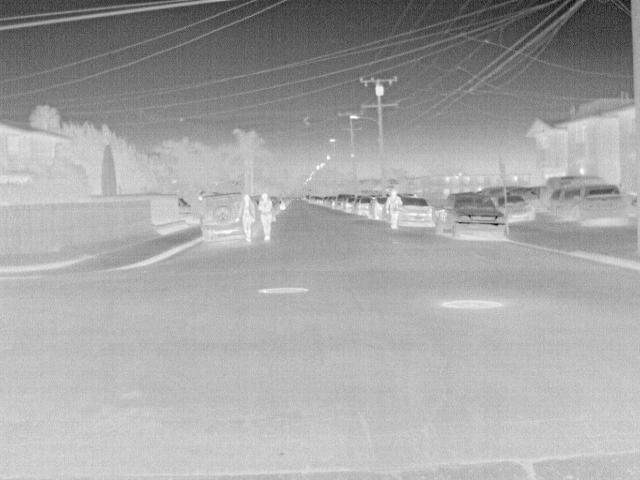car: (433, 192, 509, 242), (540, 175, 607, 212), (579, 182, 632, 225), (202, 191, 246, 240), (400, 193, 438, 228), (550, 188, 580, 222), (497, 195, 533, 222), (368, 195, 386, 221), (353, 196, 373, 217), (336, 193, 355, 212), (345, 197, 357, 214)
person: (256, 193, 277, 242), (239, 192, 259, 242), (386, 188, 403, 232)
